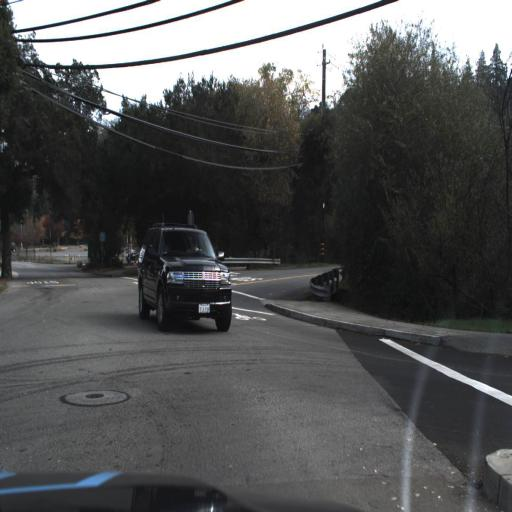car: (133, 216, 233, 338)
